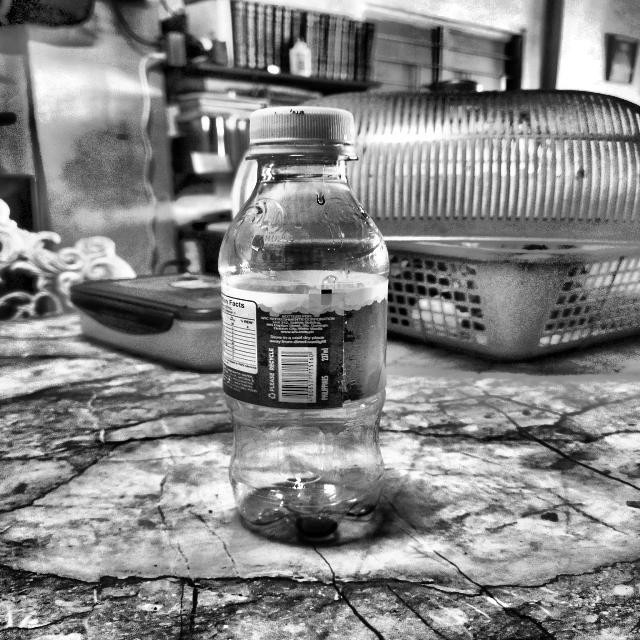Plastic-Bottle: (215, 104, 394, 544)
